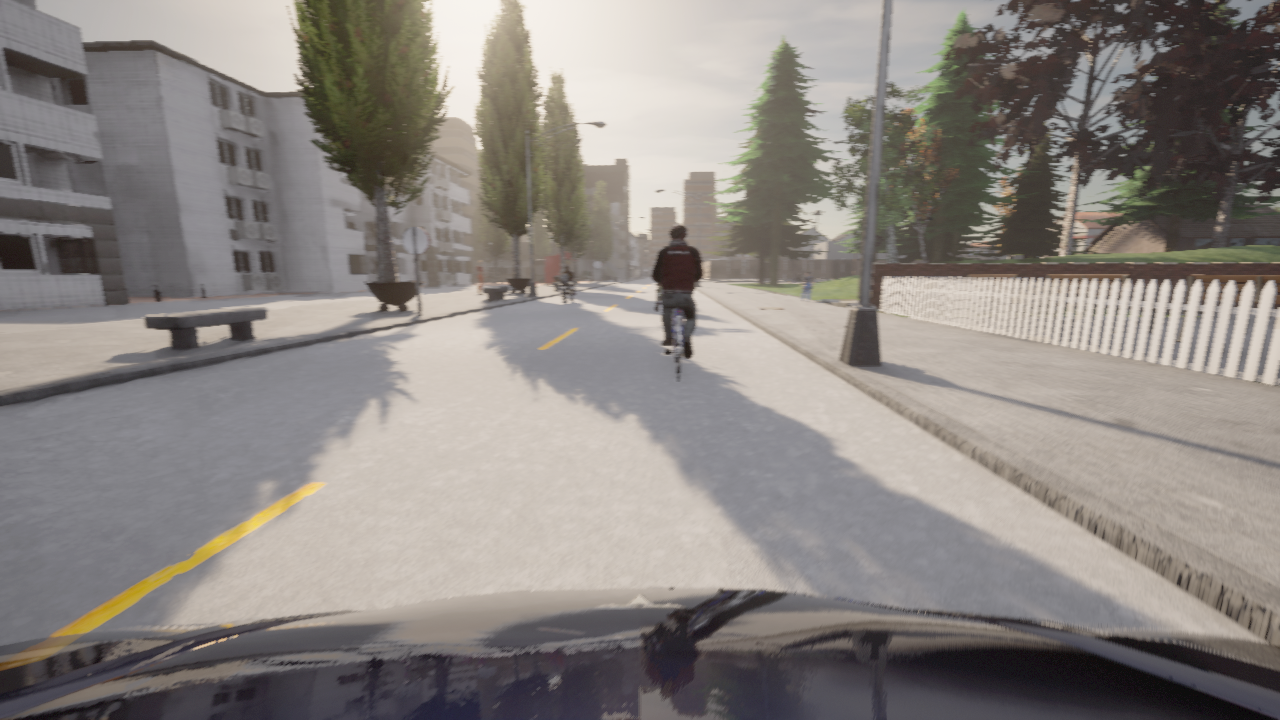cyclist: (0, 588, 1279, 719), (664, 309, 682, 380), (554, 274, 576, 303), (659, 287, 673, 314), (792, 274, 805, 281)
pedestrian: (801, 271, 813, 302), (475, 260, 486, 293)
